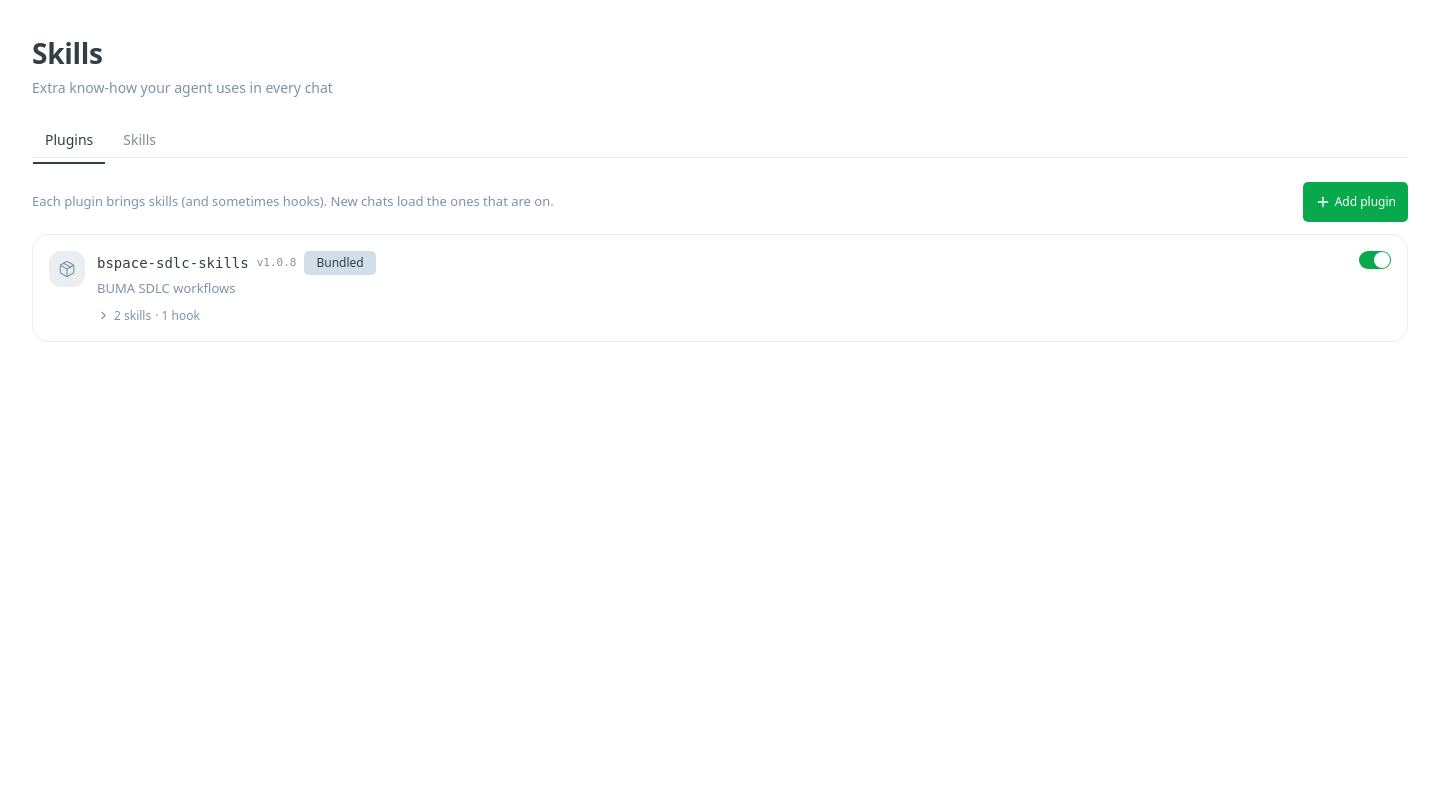
it: Skills screen › installs a plugin from a folder only after showing its skills and hooks
The image size is (1440, 810).
expect the element with test id "plugin-bspace-sdlc-skills-bundled" is shown: met, box [32,234,1408,342]
Click the button "Add plugin" at (1355,202), box [1303,182,1408,222]
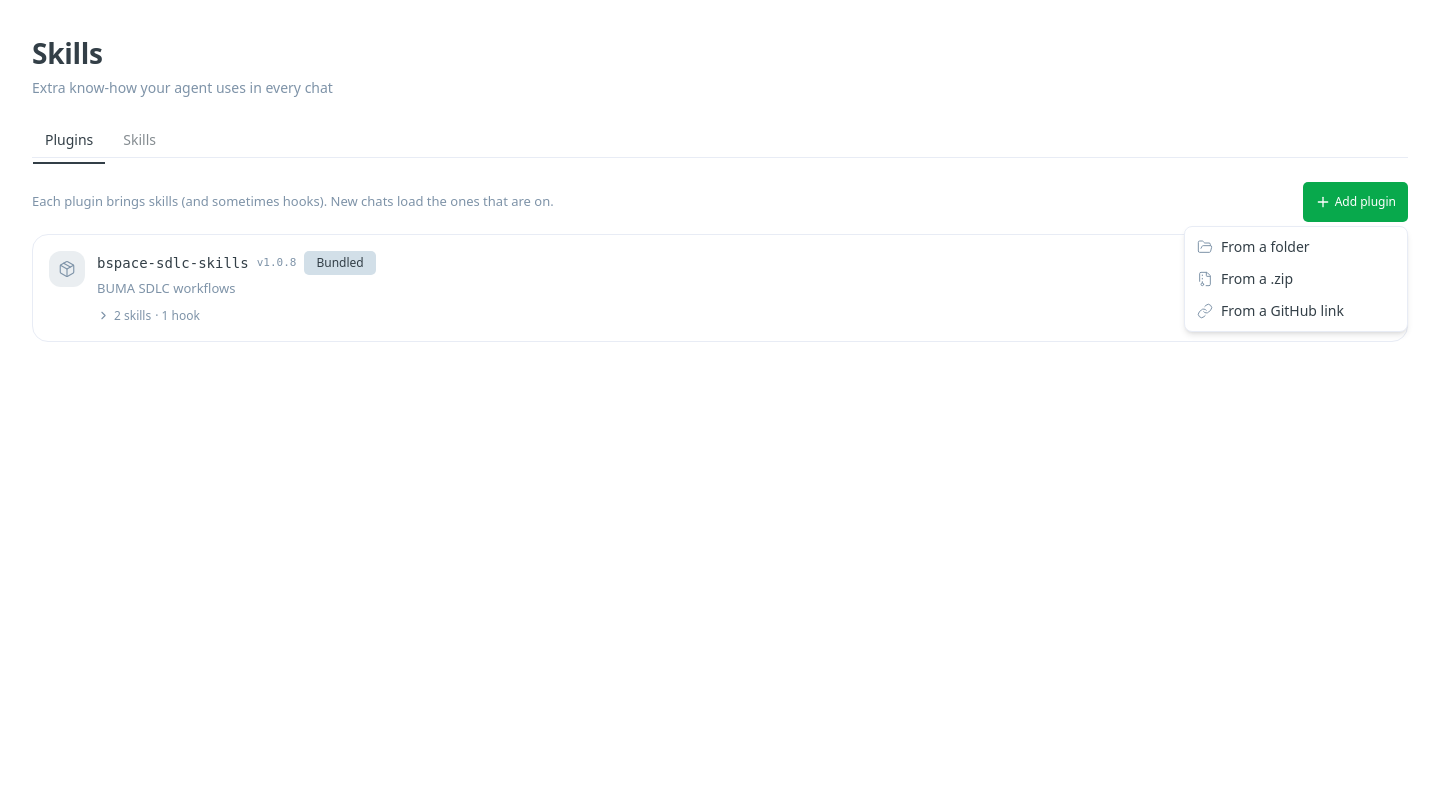
Click the menu item "From a folder" at (1253,246), box [1197,237,1310,256]
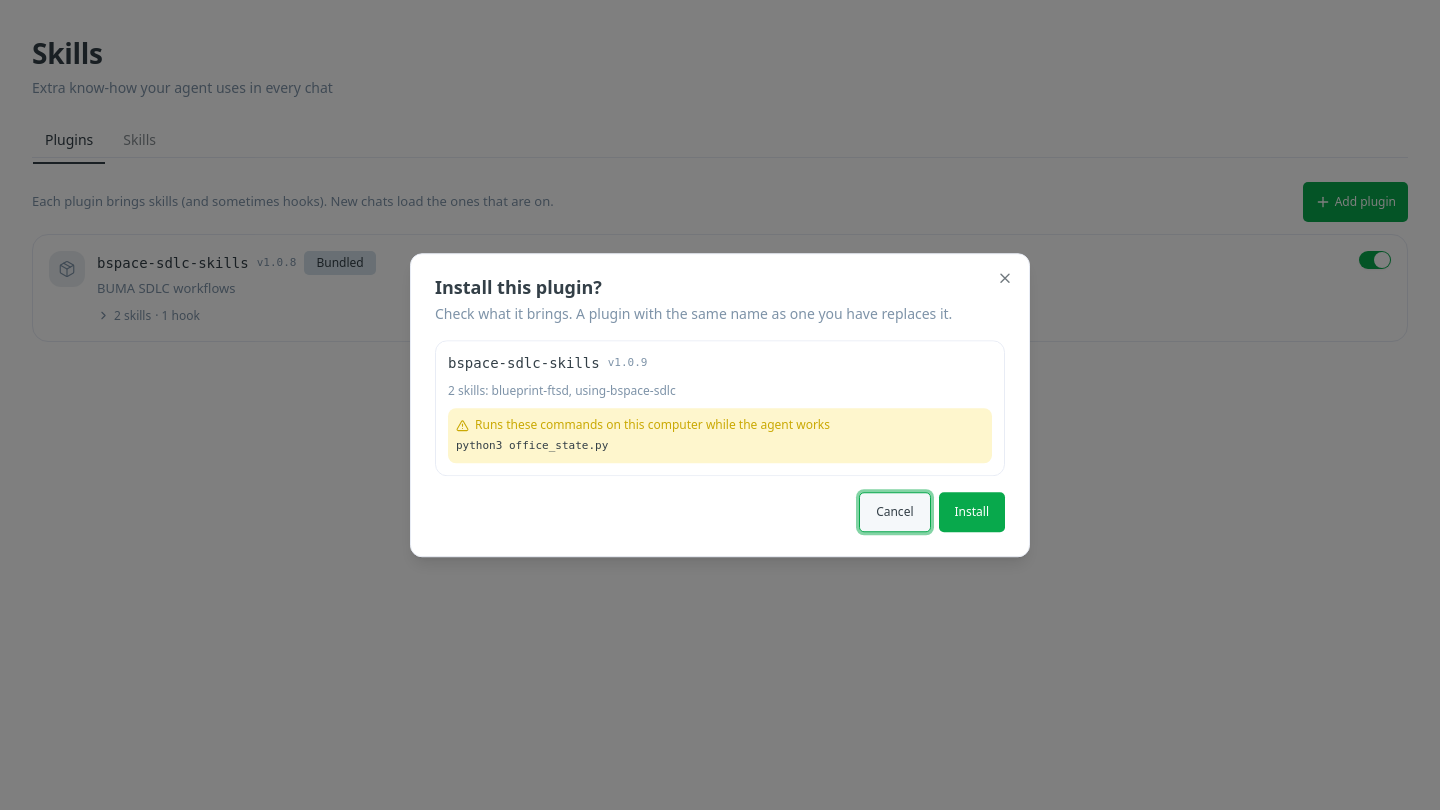
expect the dialog "Install this plugin?" shows "v1.0.9": met, box [410,253,1030,557]
expect the text "python3 office_state.py" is shown: met, box [456,439,608,452]
Click the button "Install" at (972,512), box [938,492,1005,532]
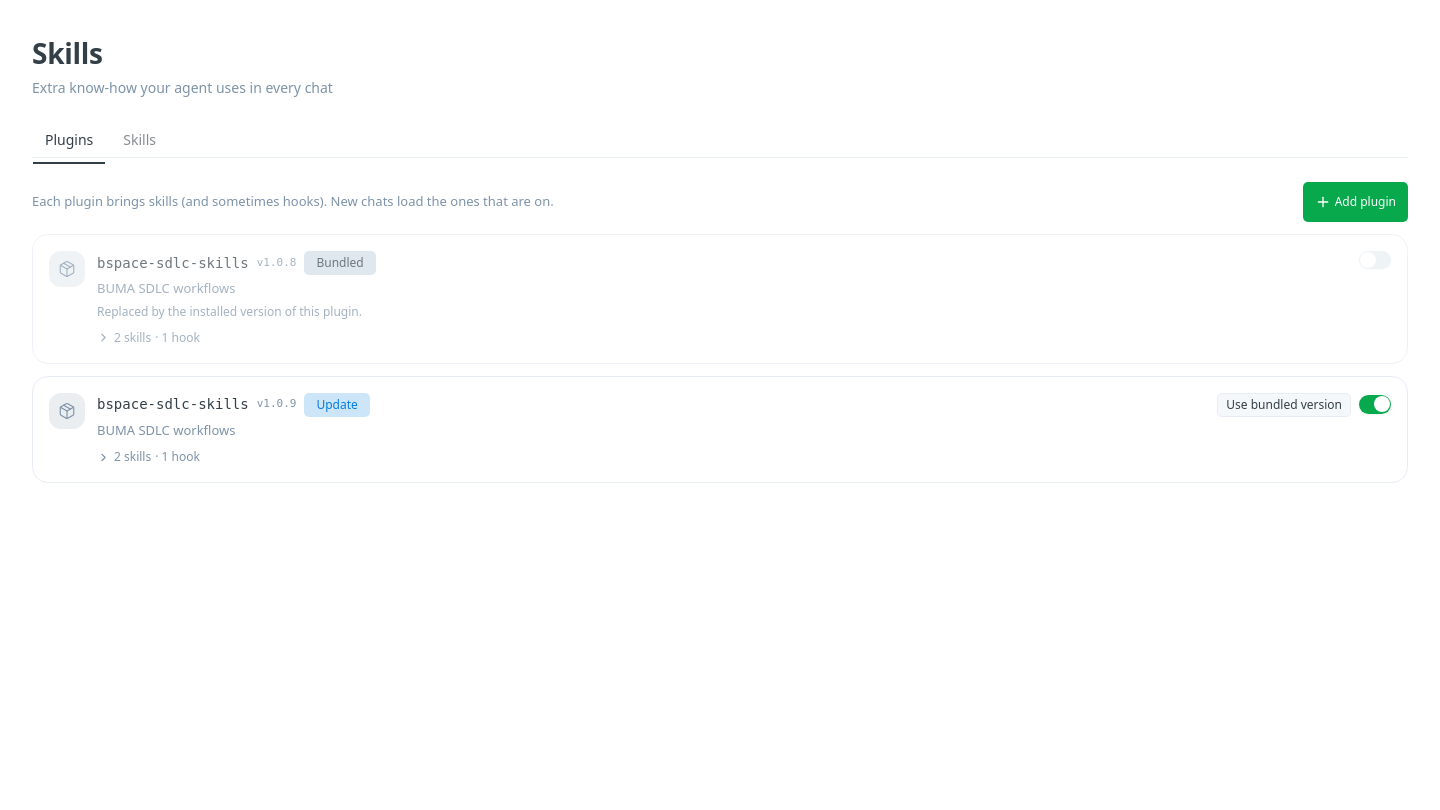
expect the element with test id "plugin-bspace-sdlc-skills-installed" shows "Update": met, box [316,396,358,412]
expect the button "Use bundled version" is shown: met, box [1217,392,1351,416]
expect the element with test id "plugin-bspace-sdlc-skills-bundled" shows "Replaced by the installed version": met, box [97,302,362,320]
